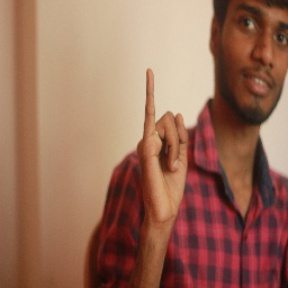I: (133, 67, 191, 220)
